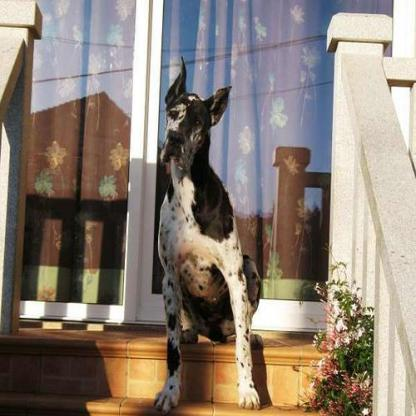Great_Dane: (150, 54, 258, 413)
